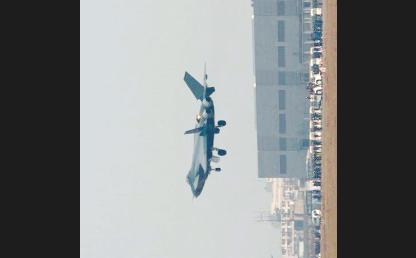F4: (182, 62, 226, 202)
